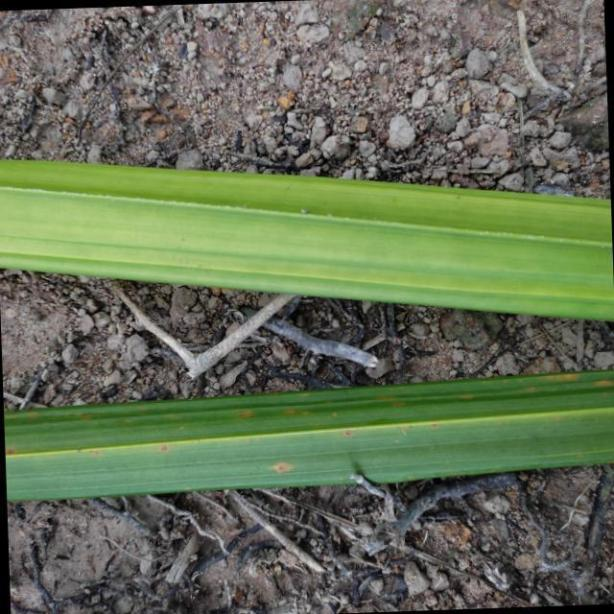nitrogen: (0, 155, 614, 317), (0, 364, 614, 500)
